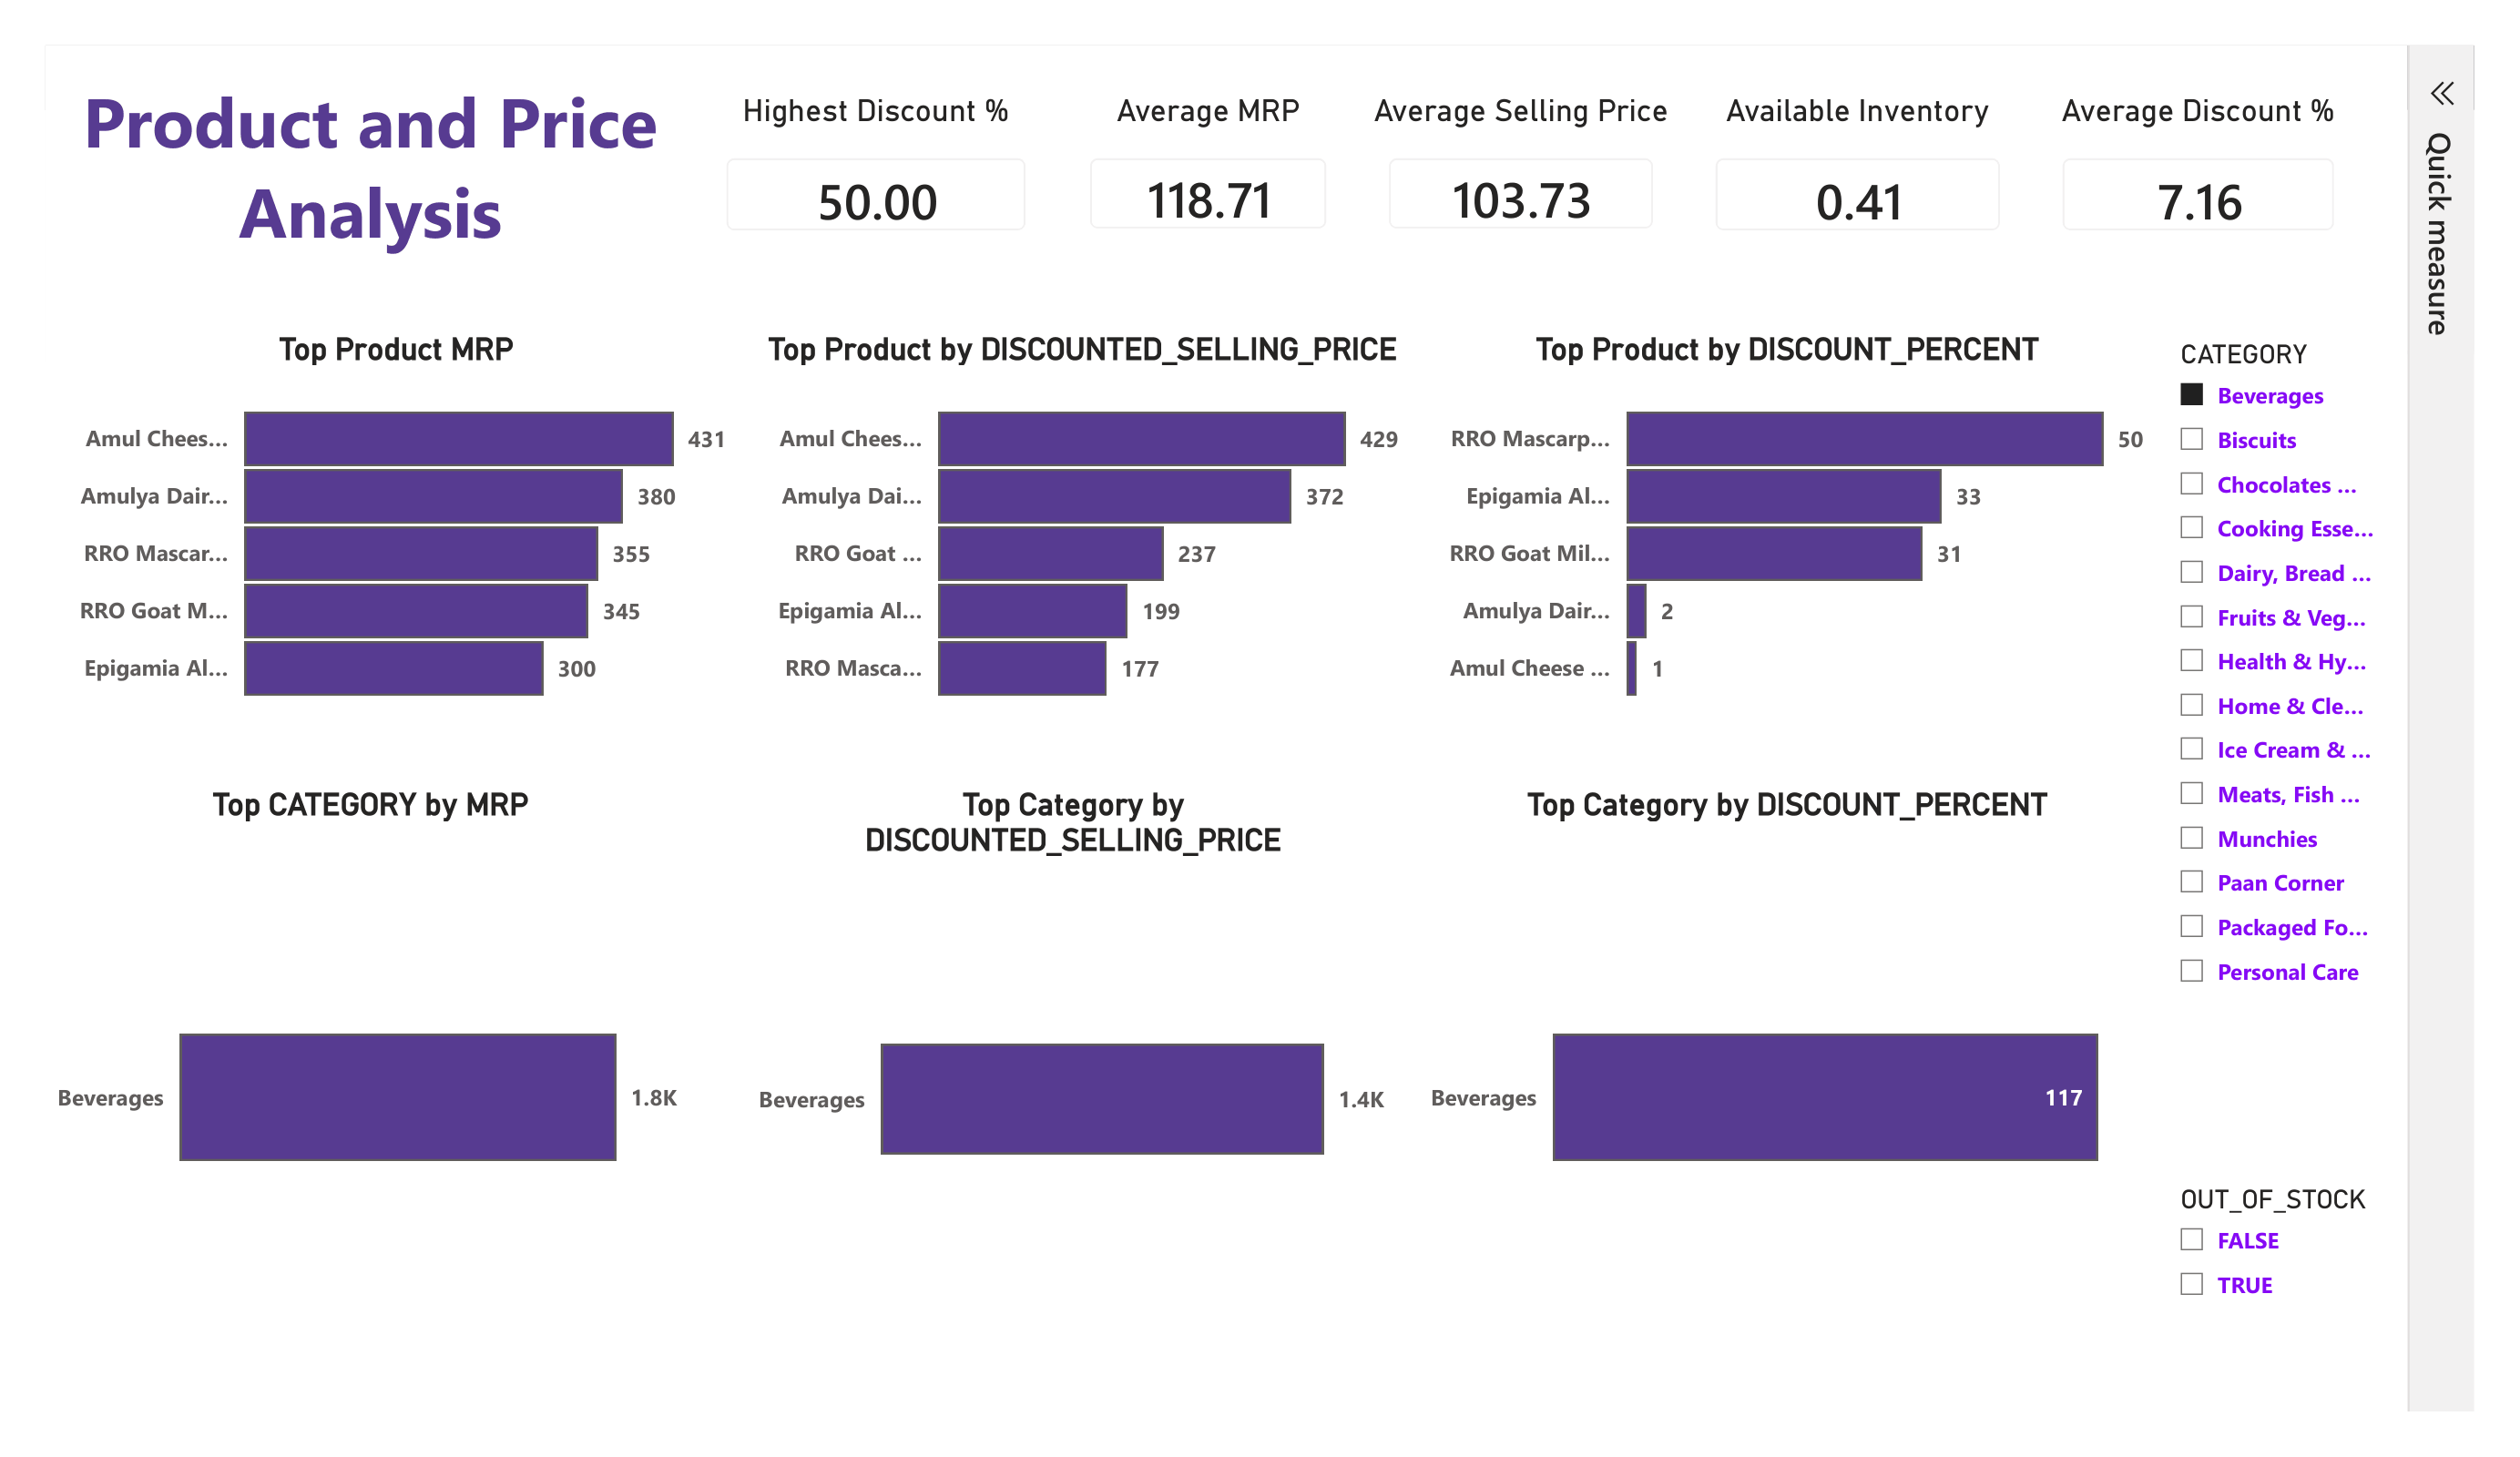

What the dashboard file says about the page in this screenshot:
{"tool":"powerbi","page":{"name":"Product & Pricing Analysis","canvas":[1280,720],"ordinal":1},"visuals":[{"type":"cardVisual","title":"Highest Discount %","fields":{"Data":["Max(ZEPTO_INVENTORY.DISCOUNT_PERCENT)"]},"box":[352.2,15.1,196.2,93.3],"z":0},{"type":"cardVisual","title":"Average MRP","fields":{"Data":["Avg(ZEPTO_INVENTORY.MRP)"]},"box":[548.7,15.1,161.9,91.9],"z":1000},{"type":"cardVisual","title":"Average Selling Price","fields":{"Data":["Avg(ZEPTO_INVENTORY.DISCOUNTED_SELLING_PRICE)"]},"box":[710.6,15.1,177,91.9],"z":2000},{"type":"cardVisual","title":"Available Inventory","fields":{"Data":["ZEPTO_INVENTORY.Average Price Per Gram"]},"box":[887.6,15.1,188,93.3],"z":3000},{"type":"cardVisual","title":"Average Discount %","fields":{"Data":["Avg(ZEPTO_INVENTORY.DISCOUNT_PERCENT)"]},"box":[1075.6,15.1,181.1,93.3],"z":4000},{"type":"clusteredBarChart","title":"Top Product  MRP","fields":{"Category":["ZEPTO_INVENTORY.NAME"],"Y":["Sum(ZEPTO_INVENTORY.MRP)"]},"box":[0,143.6,380,216],"z":5000},{"type":"barChart","title":"Top  CATEGORY by MRP","fields":{"Category":["ZEPTO_INVENTORY.CATEGORY"],"Y":["Sum(ZEPTO_INVENTORY.MRP)"]},"box":[0,390.9,352.3,312.5],"z":6000},{"type":"clusteredBarChart","title":"Top Product by DISCOUNTED_SELLING_PRICE","fields":{"Category":["ZEPTO_INVENTORY.NAME"],"Y":["Sum(ZEPTO_INVENTORY.DISCOUNTED_SELLING_PRICE)"]},"box":[380,143.6,364.3,216],"z":7000},{"type":"clusteredBarChart","title":"Top Category by DISCOUNTED_SELLING_PRICE","fields":{"Category":["ZEPTO_INVENTORY.CATEGORY"],"Y":["Sum(ZEPTO_INVENTORY.DISCOUNTED_SELLING_PRICE)"]},"box":[380,390.9,353.5,295.6],"z":8000},{"type":"clusteredBarChart","title":"Top Product by DISCOUNT_PERCENT","fields":{"Category":["ZEPTO_INVENTORY.NAME"],"Y":["Sum(ZEPTO_INVENTORY.DISCOUNT_PERCENT)"]},"box":[744.4,143.6,399.3,216],"z":9000},{"type":"clusteredBarChart","title":"Top Category by DISCOUNT_PERCENT","fields":{"Category":["ZEPTO_INVENTORY.CATEGORY"],"Y":["Sum(ZEPTO_INVENTORY.DISCOUNT_PERCENT)"]},"box":[744.4,390.9,399.3,312.5],"z":10000},{"type":"slicer","fields":{"Values":["ZEPTO_INVENTORY.CATEGORY"]},"box":[1143.7,143.6,123.1,439.1],"z":11000},{"type":"slicer","fields":{"Values":["ZEPTO_INVENTORY.OUT_OF_STOCK"]},"box":[1143.7,602,136.3,118.2],"z":12000},{"type":"textbox","box":[0,0,352.3,108.6],"z":13000}]}

Visuals, with their boxes on the page's 1280x720 design canvas (x1, y1, x2, y2). These are canvas units, not pixel positions in the 2520x1457 screenshot, which may show the page scaled, cropped or inside an application window:
"Highest Discount %" cardVisual: rect(352, 15, 548, 108)
"Average MRP" cardVisual: rect(549, 15, 711, 107)
"Average Selling Price" cardVisual: rect(711, 15, 888, 107)
"Available Inventory" cardVisual: rect(888, 15, 1076, 108)
"Average Discount %" cardVisual: rect(1076, 15, 1257, 108)
"Top Product  MRP" clusteredBarChart: rect(0, 144, 380, 360)
"Top  CATEGORY by MRP" barChart: rect(0, 391, 352, 703)
"Top Product by DISCOUNTED_SELLING_PRICE" clusteredBarChart: rect(380, 144, 744, 360)
"Top Category by DISCOUNTED_SELLING_PRICE" clusteredBarChart: rect(380, 391, 734, 686)
"Top Product by DISCOUNT_PERCENT" clusteredBarChart: rect(744, 144, 1144, 360)
"Top Category by DISCOUNT_PERCENT" clusteredBarChart: rect(744, 391, 1144, 703)
slicer - ZEPTO_INVENTORY.CATEGORY: rect(1144, 144, 1267, 583)
slicer - ZEPTO_INVENTORY.OUT_OF_STOCK: rect(1144, 602, 1280, 720)
textbox: rect(0, 0, 352, 109)
